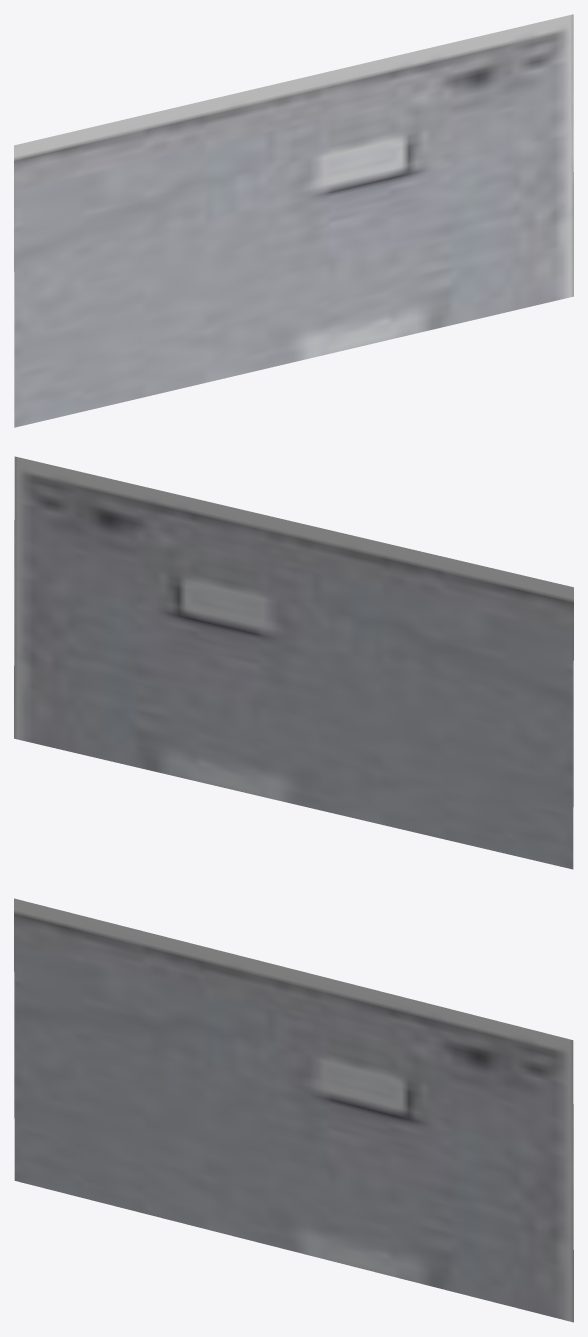
File: tile_roof_110.glb
3 views of the same model, one above another, from view 1: azimuth 30°, elevation 25°; view 2: azimuth 150°, elevation 25°; view 3: azimuth 330°, elevation 25° (orthographic).
Bounding box in the file's own units: 32.63 × 16.03 × 0.0248.
1 material, 1 textured.
